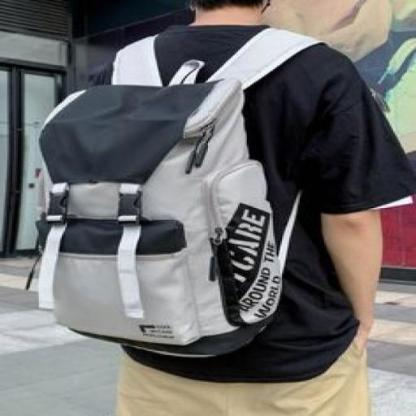bag: (26, 33, 299, 373)
